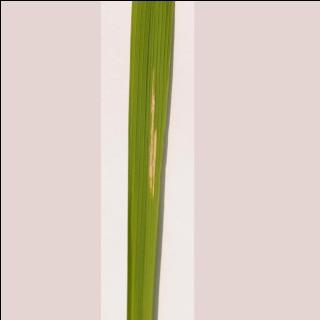Hawar-Daun: (138, 72, 172, 206)
